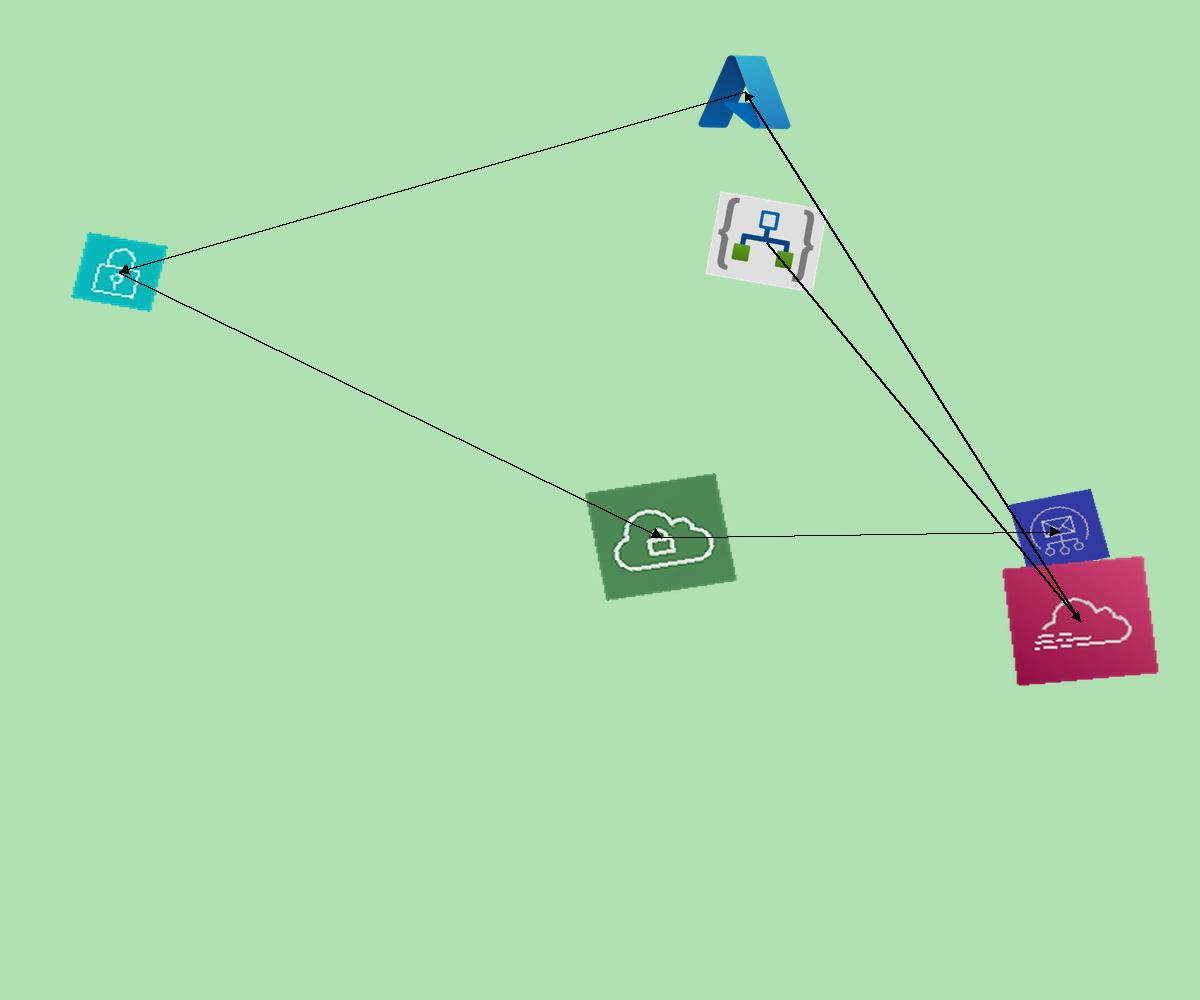AWS-CloudTrail: (1001, 555, 1160, 687)
AWS-Private-subnet: (71, 232, 168, 312)
AWS-Private_vpc: (584, 473, 738, 601)
AWS-Simple-Email-Service: (1008, 488, 1111, 574)
Azure_integration-204-Logic-Apps: (705, 191, 828, 293)
Azure_services: (694, 49, 797, 135)
